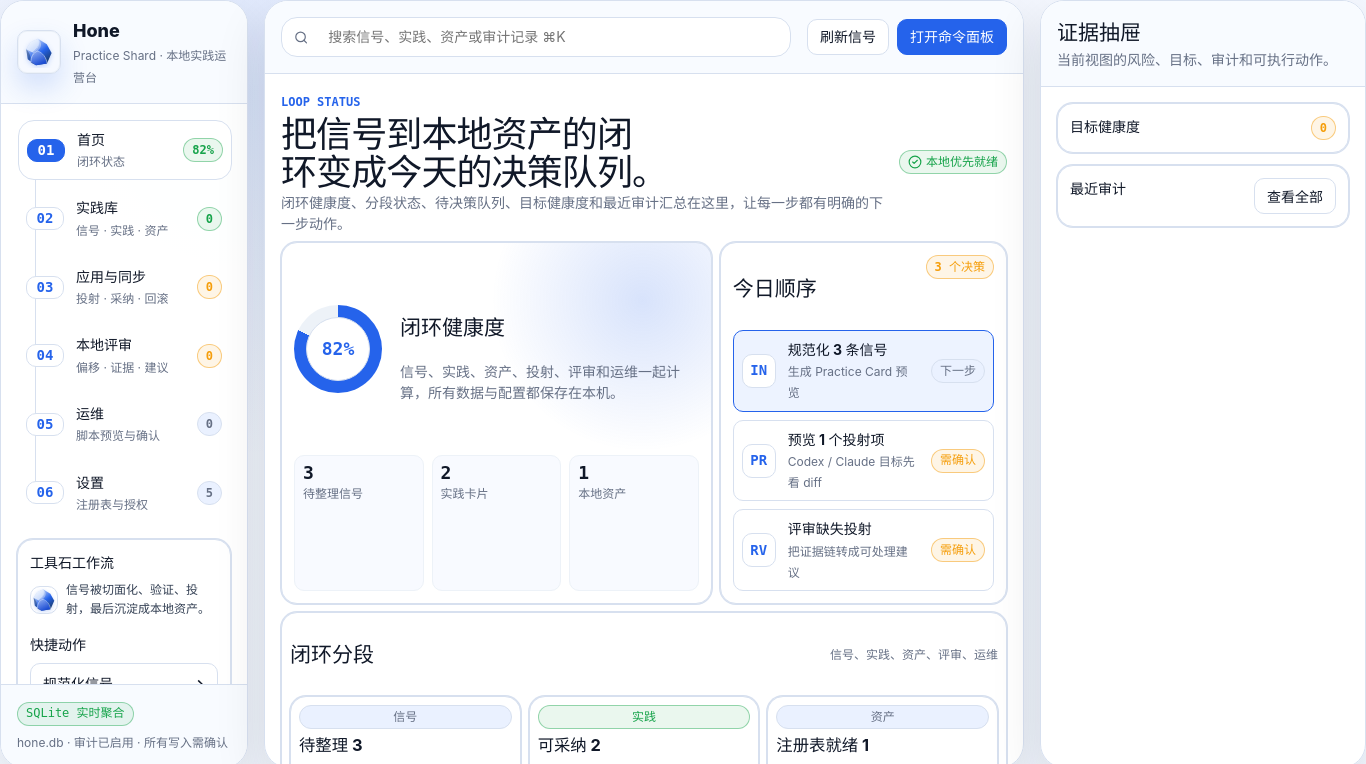
Hone app foundation › sends the Practice Library user flow through Tauri commands with Codex
The width and height of the screenshot is (1366, 764).
What coordinates should you click on to do the following:
click the button "02 实践库 信号 · 实践 · 资产 0"
I would click on:
 (124, 219)
Its box is left=17, top=188, right=231, bottom=249.
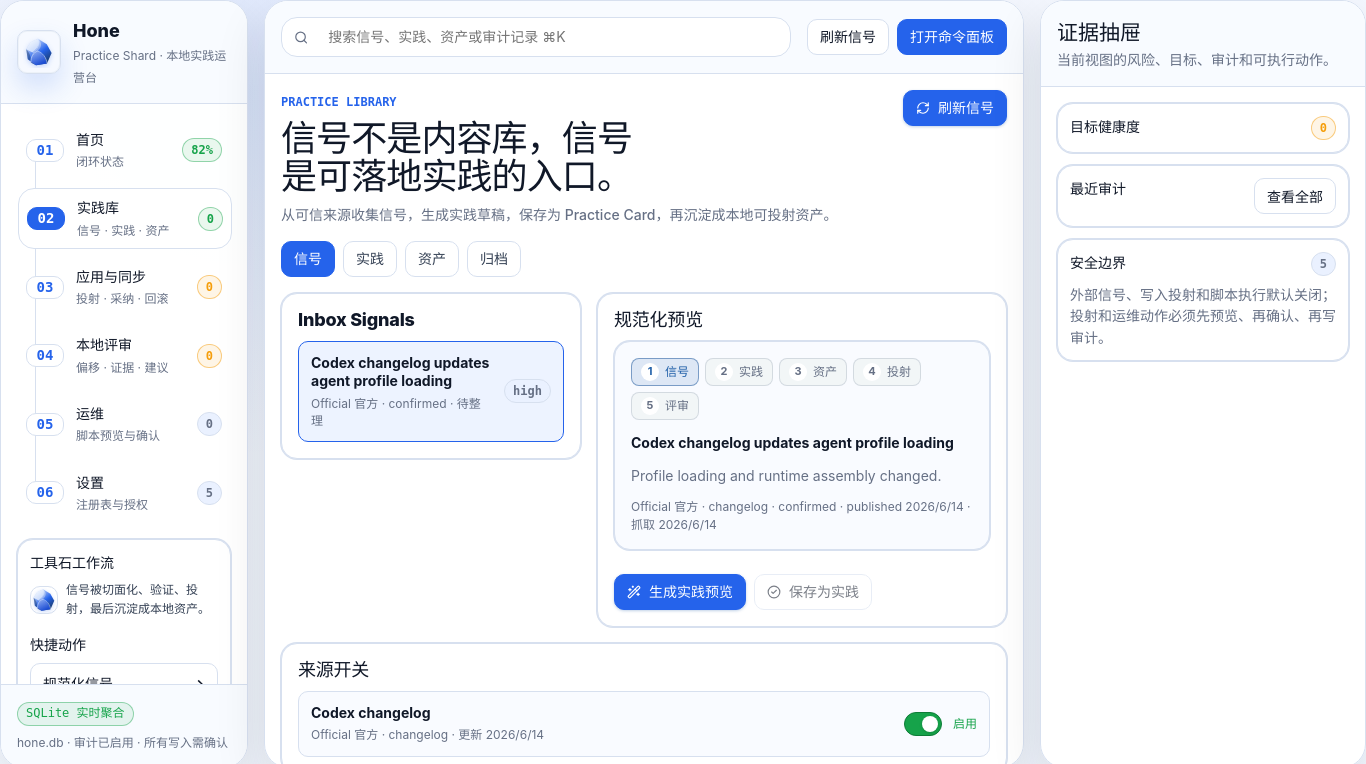
What coordinates should you click on to do the following:
click the button "生成实践预览"
I would click on:
 (680, 592)
Its box is left=614, top=574, right=746, bottom=610.
(page scrolled)
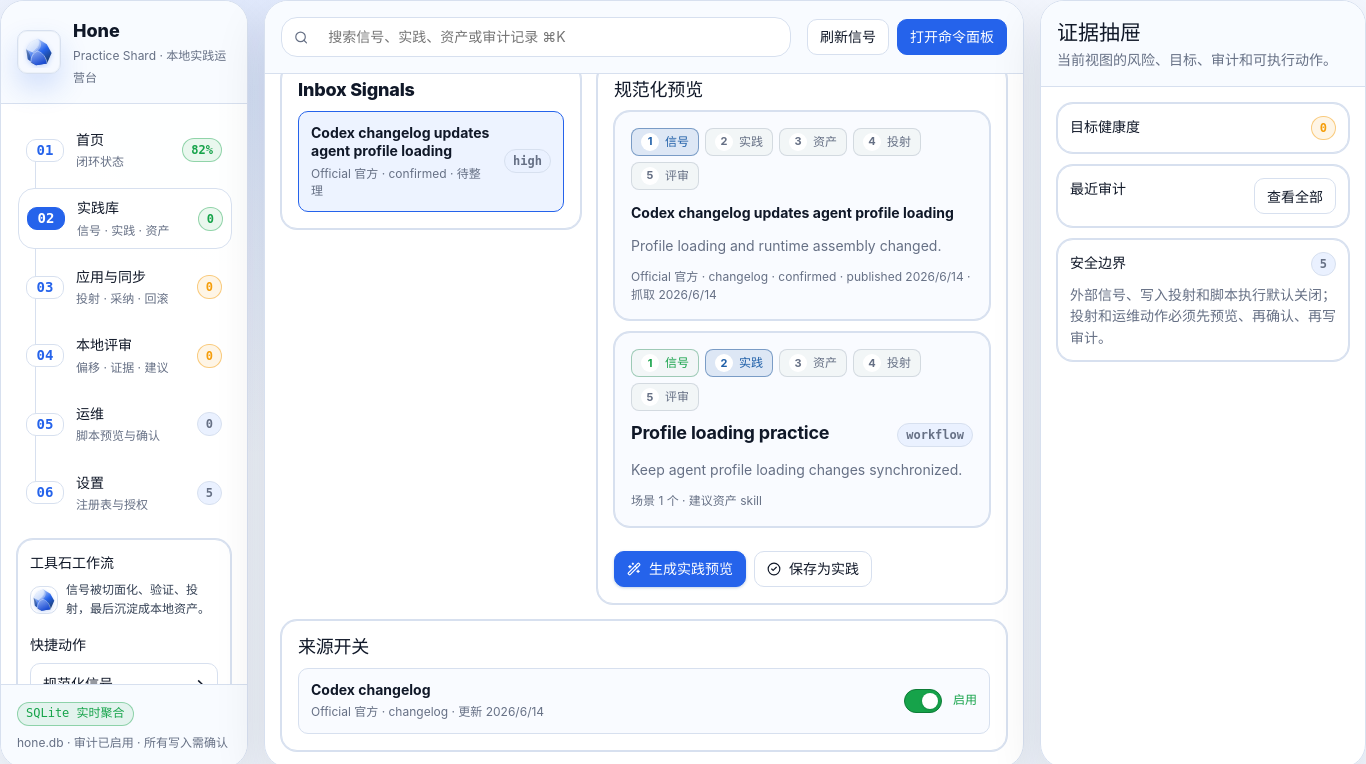
Now the heading "Profile loading practice" is shown, box left=631, top=423, right=829, bottom=442
What coordinates should you click on to do the following:
click the button "保存为实践"
I would click on:
 (813, 569)
Its box is left=754, top=551, right=872, bottom=587.
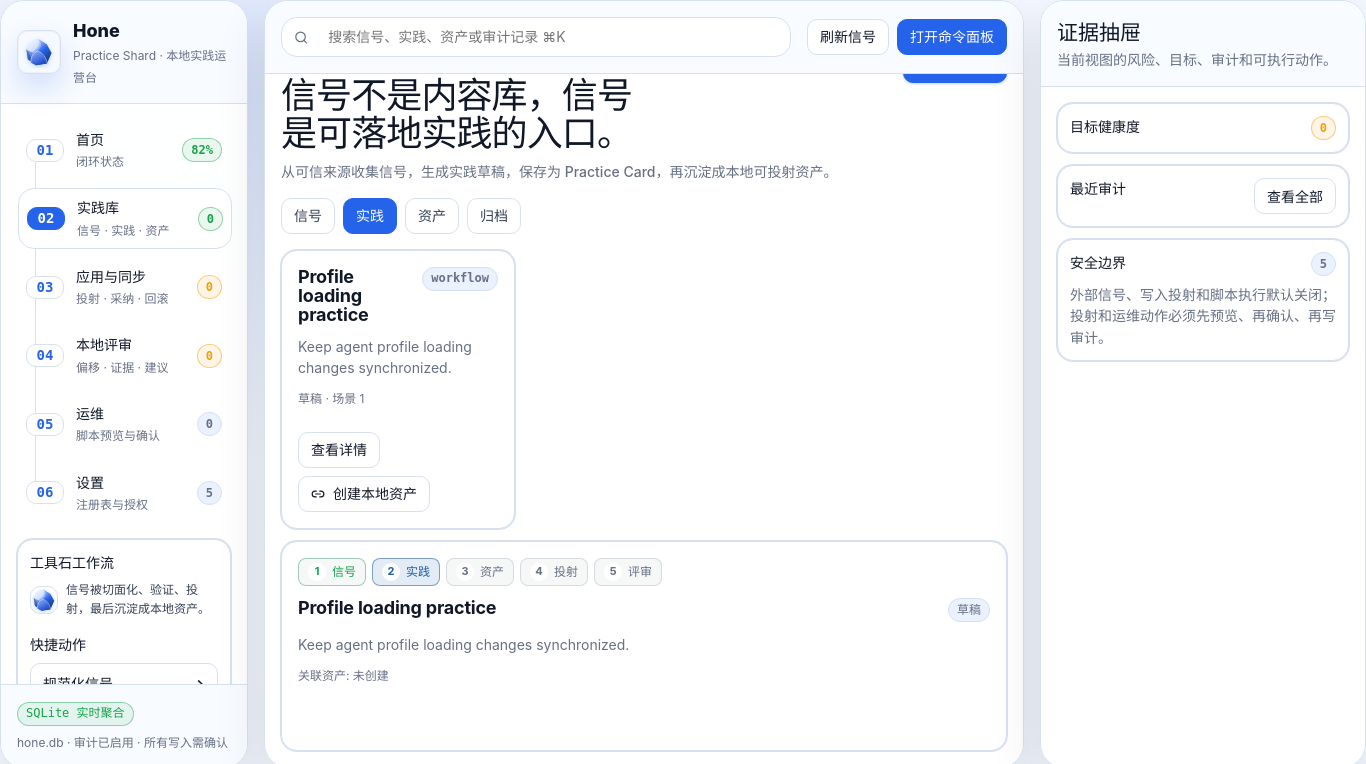
What coordinates should you click on to do the following:
click the button "创建本地资产"
I would click on:
 (364, 494)
Its box is left=298, top=476, right=430, bottom=512.
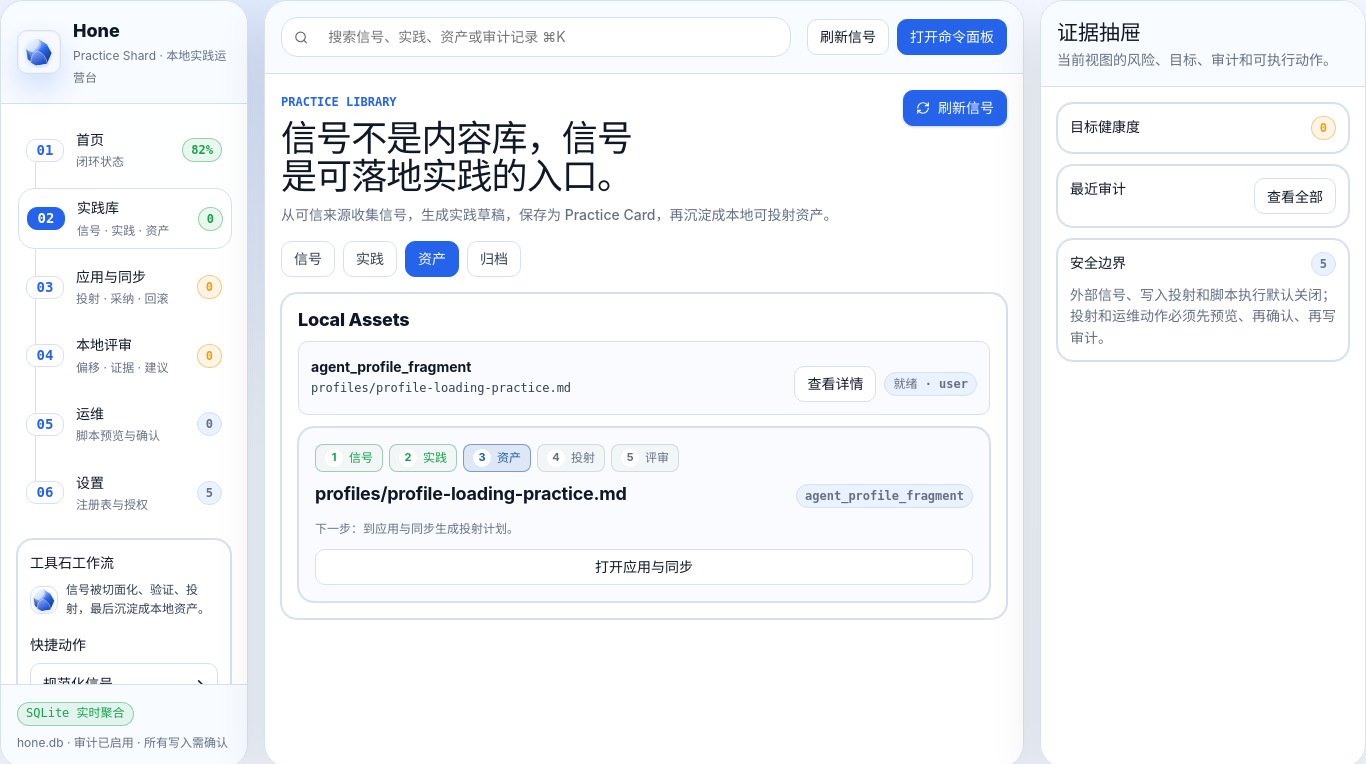
Now the text "profiles/profile-loading-practice.md" is shown, box left=311, top=381, right=571, bottom=395
